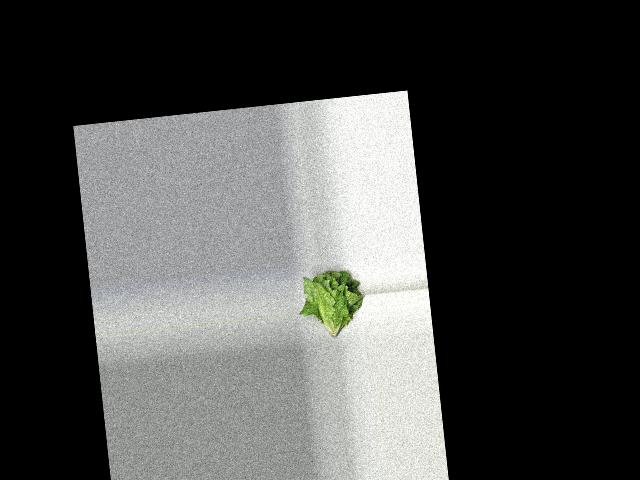lettuce: (295, 266, 367, 342)
